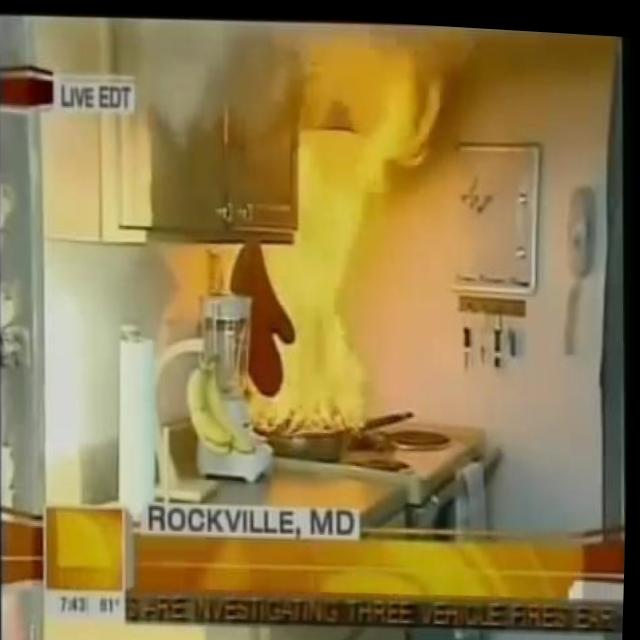fire: (245, 173, 391, 449)
